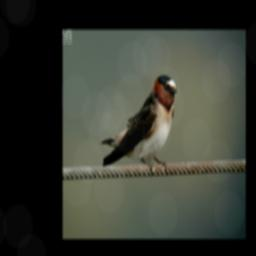Swallow: (100, 70, 181, 173)
